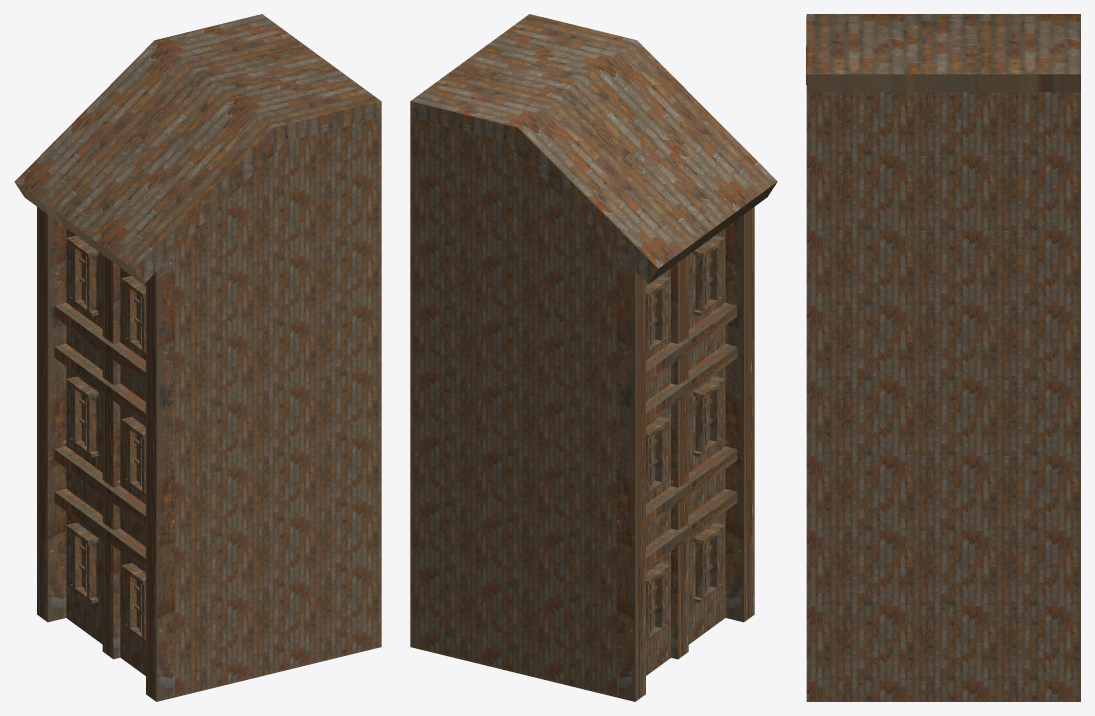
File: testaha.fbx
3 views of the same model, side by side, from view 1: azimuth 30°, elevation 25°; view 2: azimuth 150°, elevation 25°; view 3: azimuth 270°, elevation 25° (orthographic). The views are drawn at different scales.
Parts seen in each view (by area): view 1: pCube30; view 2: pCube30; view 3: pCube30.
Boxes of the visible parts, box(x1,y1,x2,y2) form: pCube30: box(14, 14, 381, 701); pCube30: box(410, 14, 777, 701); pCube30: box(806, 14, 1080, 701).
Bounding box in the file's own units: 36 × 75.7 × 30.05.
